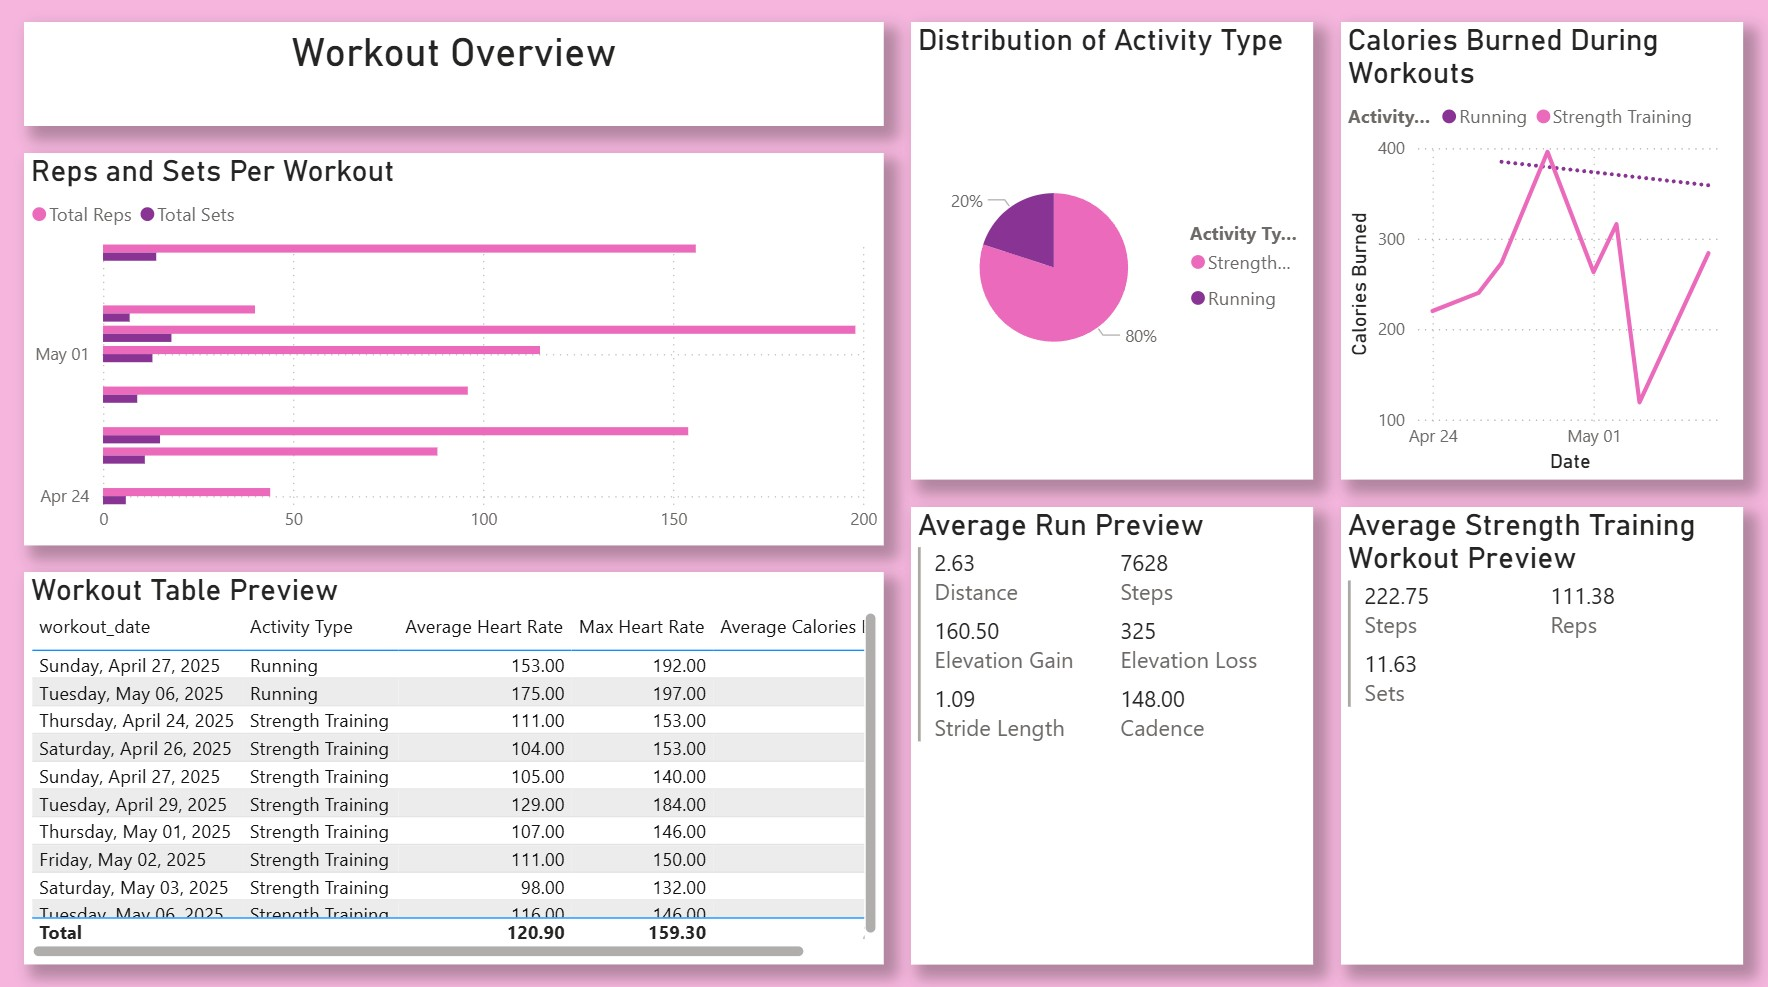

Layout of this report page (visuals, bound fields, positions):
{"tool":"powerbi","page":{"name":"Workouts","canvas":[1280,720],"ordinal":2},"visuals":[{"type":"lineChart","title":"Calories Burned During Workouts","fields":{"Y":["Avg(workouts.calories)"],"Category":["workouts.workout_date.Variation.Date Hierarchy.Quarter"],"Series":["workouts.activity_type"]},"box":[970,20.2,290,330],"z":0},{"type":"tableEx","title":"Workout Table Preview","fields":{"Values":["workouts.workout_date.Variation.Date Hierarchy.Year","workouts.activity_type","Avg(workouts.avg_hr)","Avg(workouts.max_hr)","Avg(workouts.calories)"]},"box":[20.2,417,620.2,283.4],"z":1000},{"type":"clusteredBarChart","title":"Reps and Sets Per Workout","fields":{"Y":["Avg(strength_workouts.total_reps)","Avg(strength_workouts.total_sets)"],"Category":["workouts.workout_date"]},"box":[20.2,115,620.2,282.7],"z":2000},{"type":"pieChart","title":"Distribution of Activity Type","fields":{"Y":["CountNonNull(workouts.activity_type)"],"Category":["workouts.activity_type"]},"box":[660,20.2,290,330],"z":3000},{"type":"multiRowCard","title":"Average Run Preview","fields":{"Values":["Avg(running_workouts.distance_miles)","Sum(running_workouts.steps)","Avg(running_workouts.elevation_gain_ft)","Sum(running_workouts.elevation_loss_ft)","Avg(running_workouts.stride_length)","Avg(running_workouts.cadence_avg)"]},"box":[659.8,370,290,330],"z":4000},{"type":"multiRowCard","title":"Average Strength Training Workout Preview","fields":{"Values":["Avg(strength_workouts.steps)","Avg(strength_workouts.total_reps)","Avg(strength_workouts.total_sets)"]},"box":[969.9,370,290,330],"z":5000},{"type":"textbox","box":[20,20,620,75],"z":6000}]}

Visuals, with their boxes in screenshot pixels (x1, y1, x2, y2), scaled from the page's 1280x720 canvas onto the 1768x987 screenshot:
"Calories Burned During Workouts" lineChart: 1340,28,1740,480
"Workout Table Preview" tableEx: 28,572,885,960
"Reps and Sets Per Workout" clusteredBarChart: 28,158,885,545
"Distribution of Activity Type" pieChart: 912,28,1312,480
"Average Run Preview" multiRowCard: 911,507,1312,960
"Average Strength Training Workout Preview" multiRowCard: 1340,507,1740,960
textbox: 28,27,884,130
